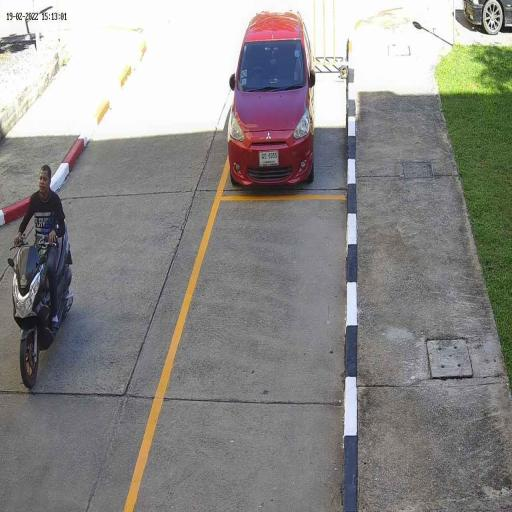car: (228, 11, 316, 187)
motorcycle: (12, 244, 73, 388)
